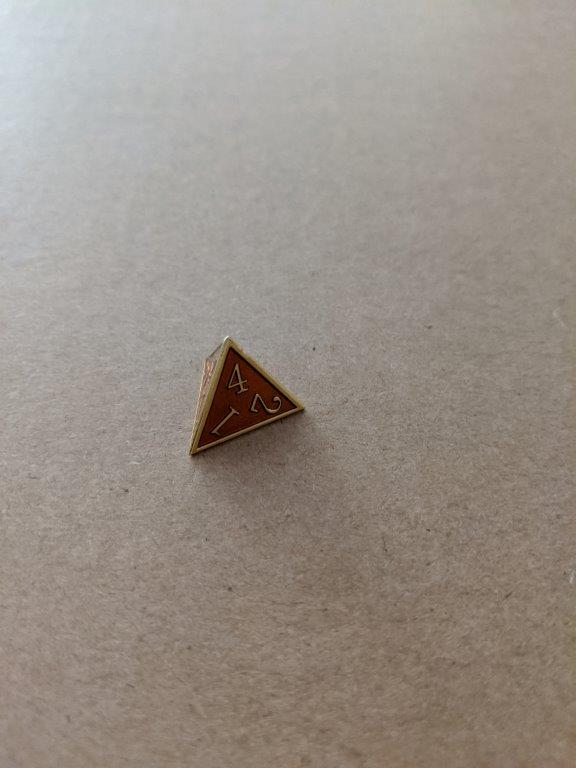d4-4: (184, 333, 305, 461)
